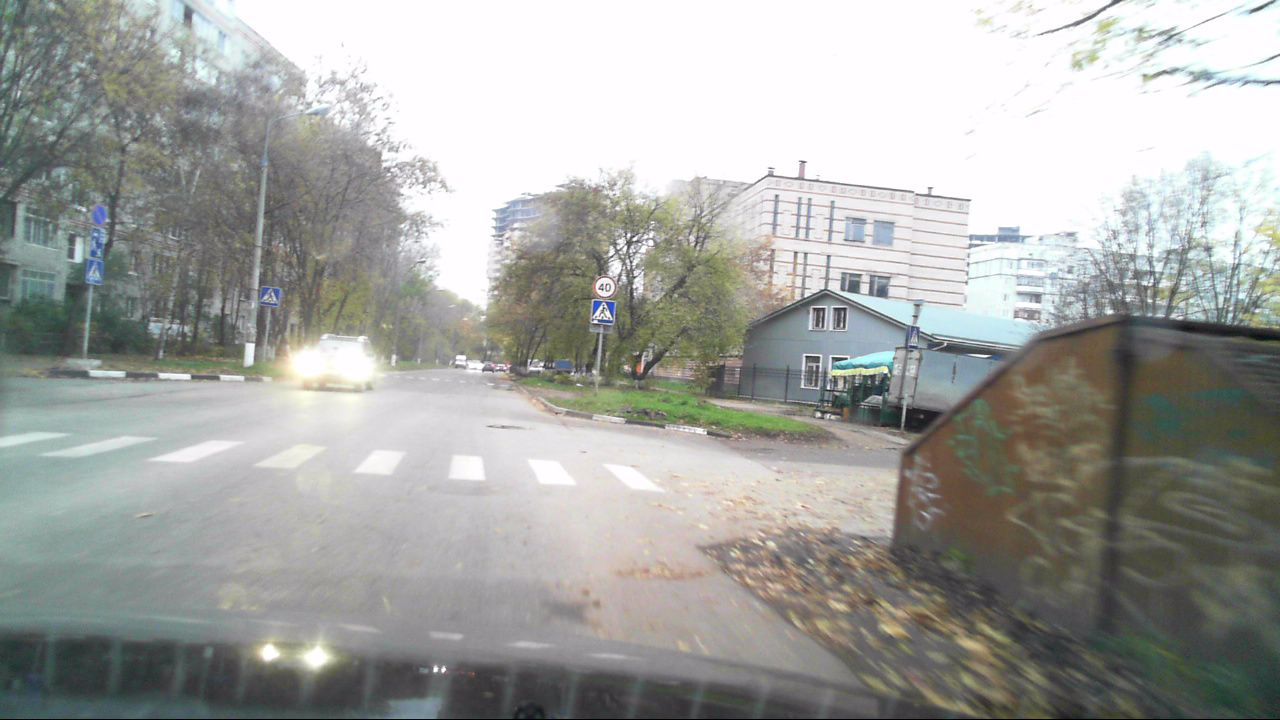speed_warning_40: (594, 277, 616, 300)
